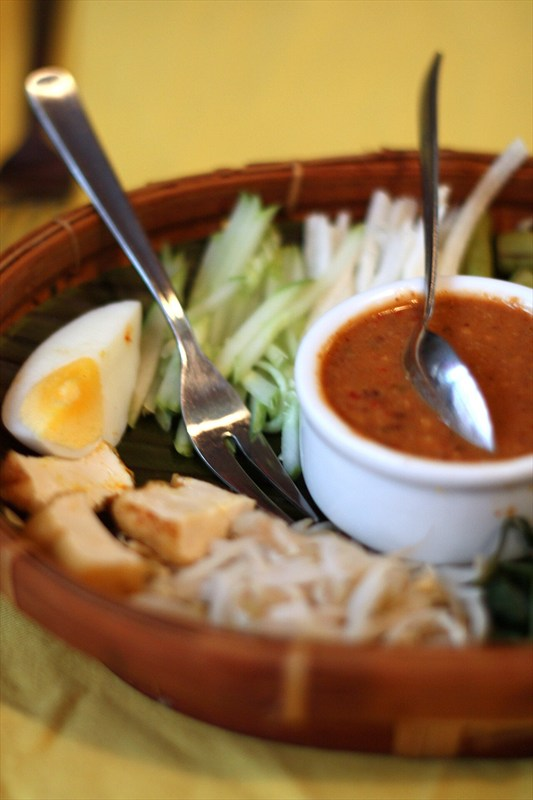Gado-Gado: (25, 119, 508, 555)
